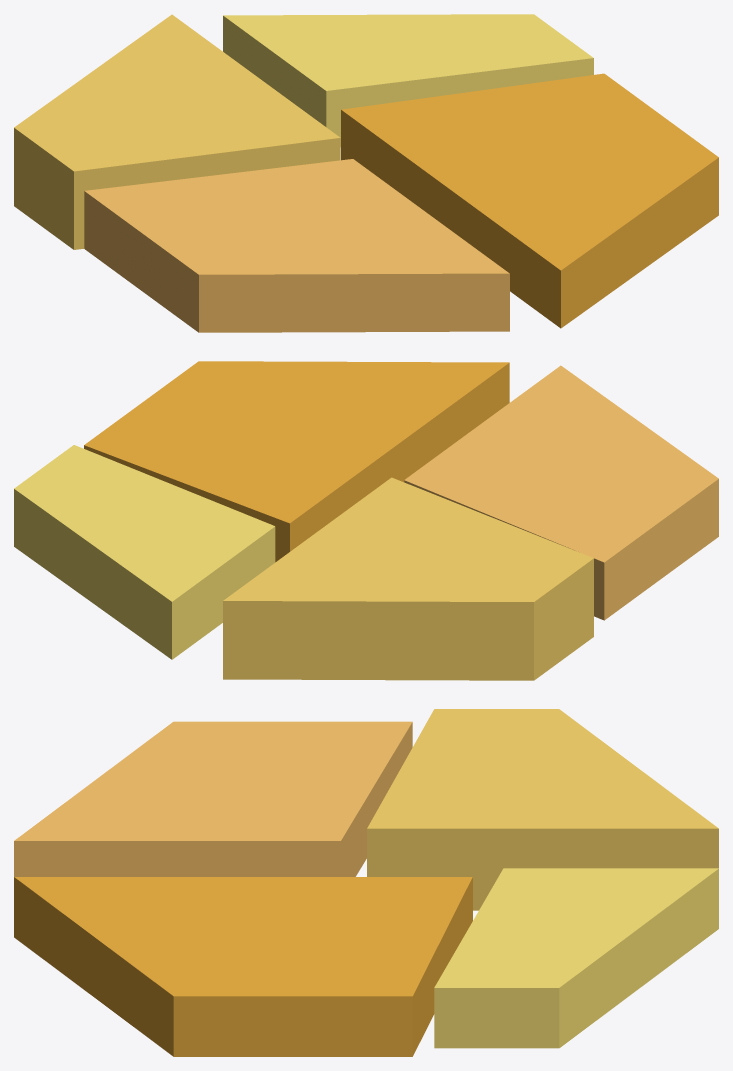
The model's file is M_Farm_var1_3.fbx.
3 renders of one model, top to bottom at view 1: azimuth 30°, elevation 25°; view 2: azimuth 150°, elevation 25°; view 3: azimuth 270°, elevation 25°, orthographic. The views are drawn at different scales.
Visible parts, largest first — view 1: M_Farm_var1_3; view 2: M_Farm_var1_3; view 3: M_Farm_var1_3.
Boxes of the visible parts, x1,y1,x2,y2 form: M_Farm_var1_3: (14, 14, 718, 332); M_Farm_var1_3: (14, 361, 718, 680); M_Farm_var1_3: (14, 709, 718, 1056).
Size of the model in its own units: 1.36 by 0.1991 by 1.54.
